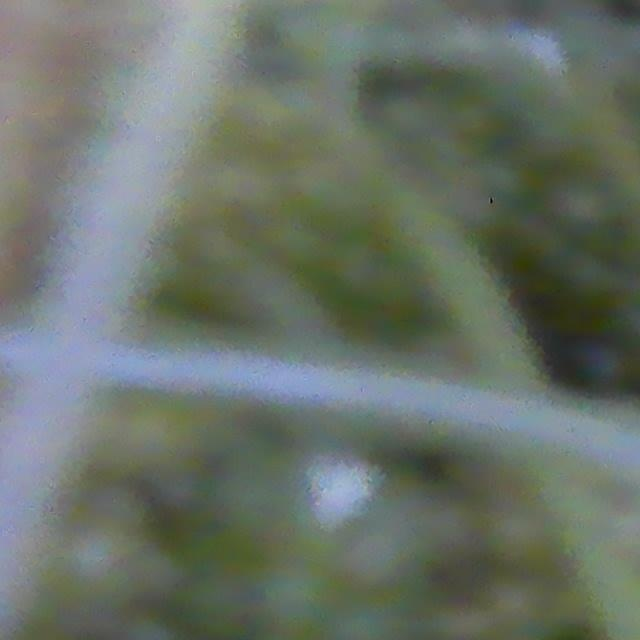SeaGrape: (260, 559, 337, 635)
